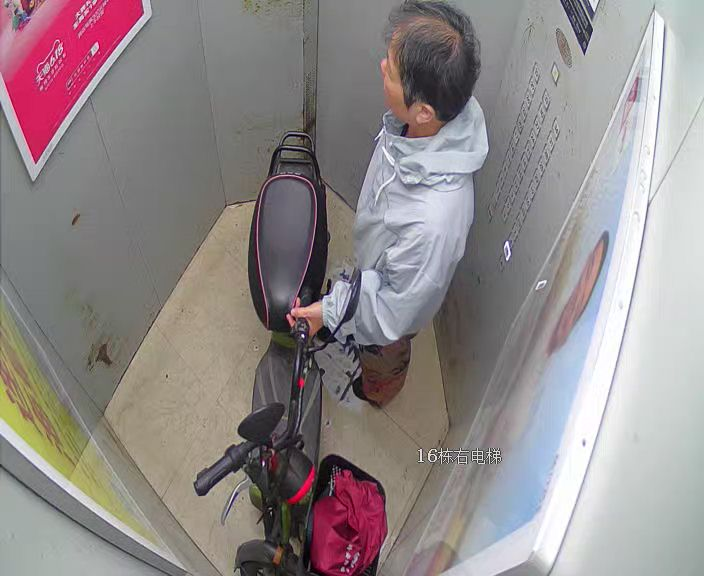Electric-bicycle: (195, 134, 382, 576)
